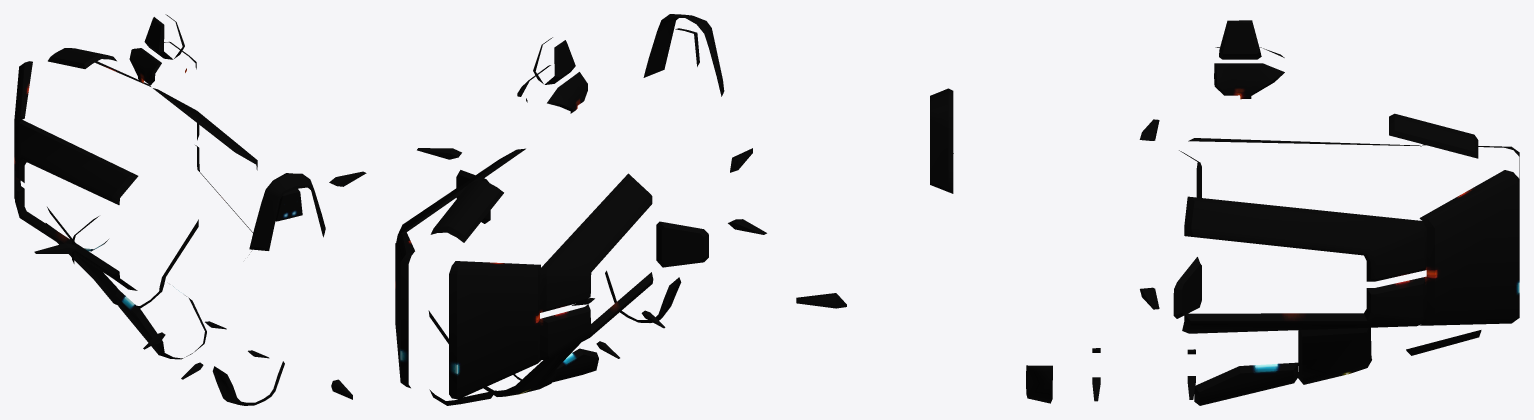
Rendered from yao_cf_assa_01_t2.glb.
3 renders of one model, left to right at view 1: azimuth 30°, elevation 25°; view 2: azimuth 150°, elevation 25°; view 3: azimuth 270°, elevation 25°, orthographic. The views are drawn at different scales.
Parts seen in each view (by area): view 1: yao_assault_frigate_01_t2_LOD0; view 2: yao_assault_frigate_01_t2_LOD0; view 3: yao_assault_frigate_01_t2_LOD0.
Part boxes in pixels (x1,y1,x2,y2): yao_assault_frigate_01_t2_LOD0: (14,14,366,405); yao_assault_frigate_01_t2_LOD0: (395,14,766,405); yao_assault_frigate_01_t2_LOD0: (796,20,1519,405).
Size of what is drawn, in the model's own units: 1.54 by 1.46 by 2.48.
1 material, 1 textured.
